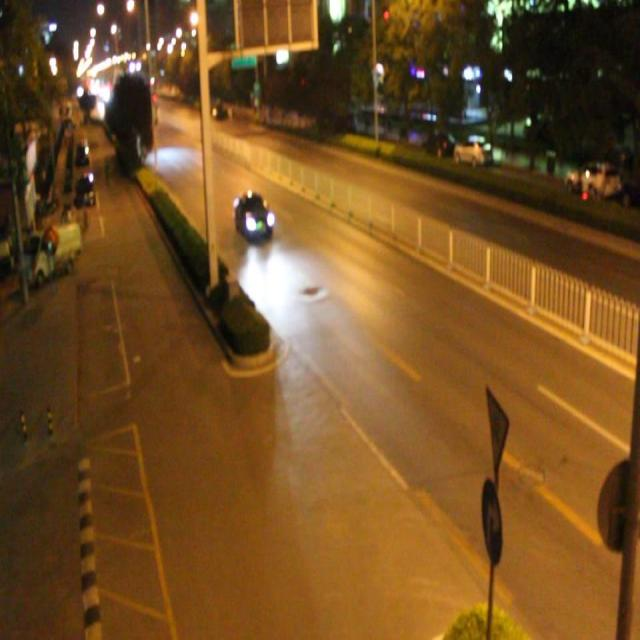car: (234, 190, 273, 240)
